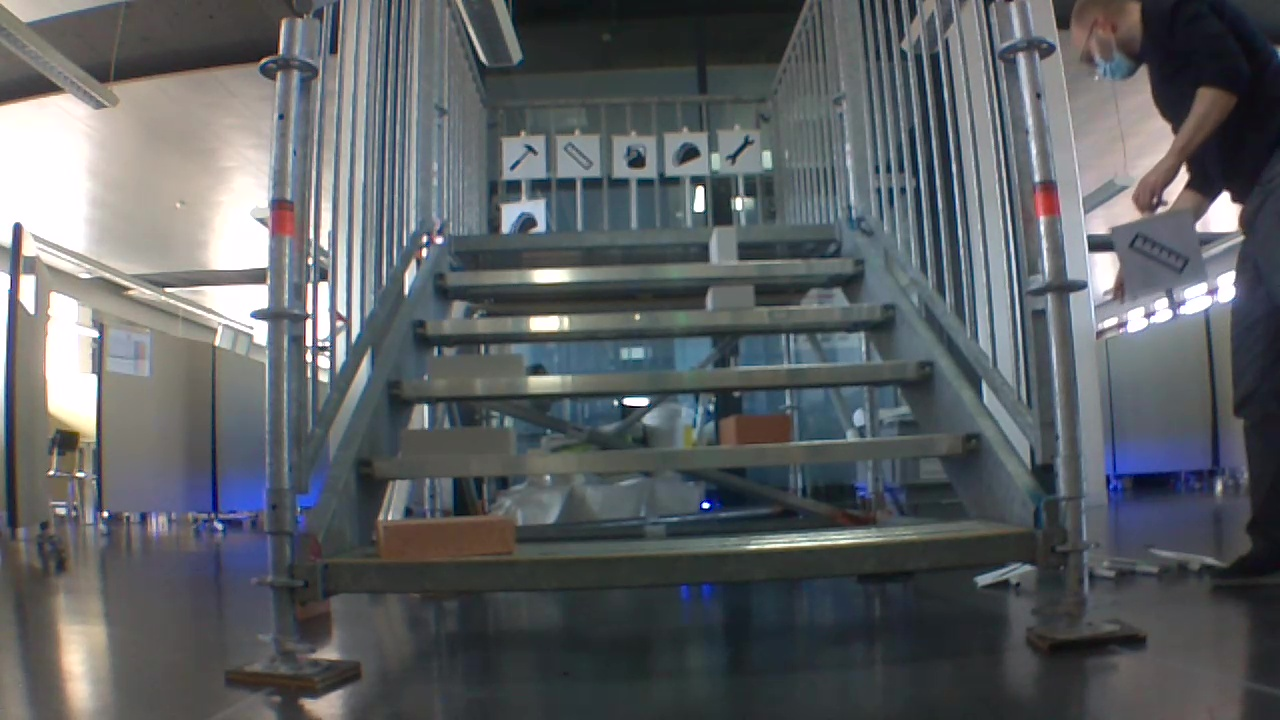brick: (376, 515, 520, 559), (399, 422, 517, 457), (430, 350, 527, 386), (716, 413, 791, 450), (704, 283, 756, 312), (708, 220, 739, 263)
bucket: (621, 140, 652, 172)
edge: (323, 524, 1041, 603), (363, 423, 984, 485), (415, 303, 895, 338), (448, 223, 839, 253), (390, 360, 930, 380), (436, 265, 863, 282)
hammer: (505, 144, 539, 172)
ruler: (1130, 234, 1193, 275), (564, 141, 596, 173)
stairs: (263, 0, 1077, 689)
steps: (306, 223, 1040, 601)
taco: (507, 206, 543, 232), (674, 140, 704, 170)
wrench: (724, 132, 755, 170)
